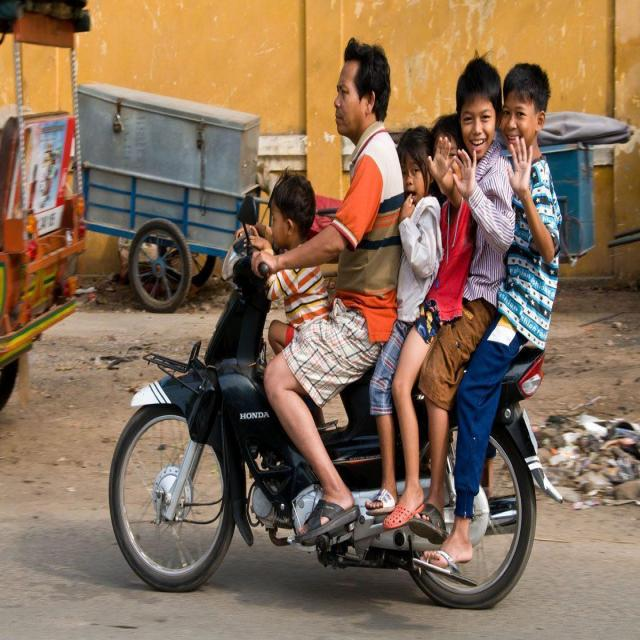triple_rider: (108, 35, 562, 616)
